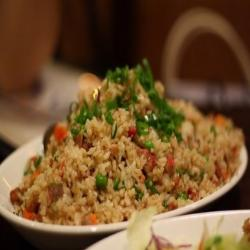rice: (25, 80, 231, 212)
